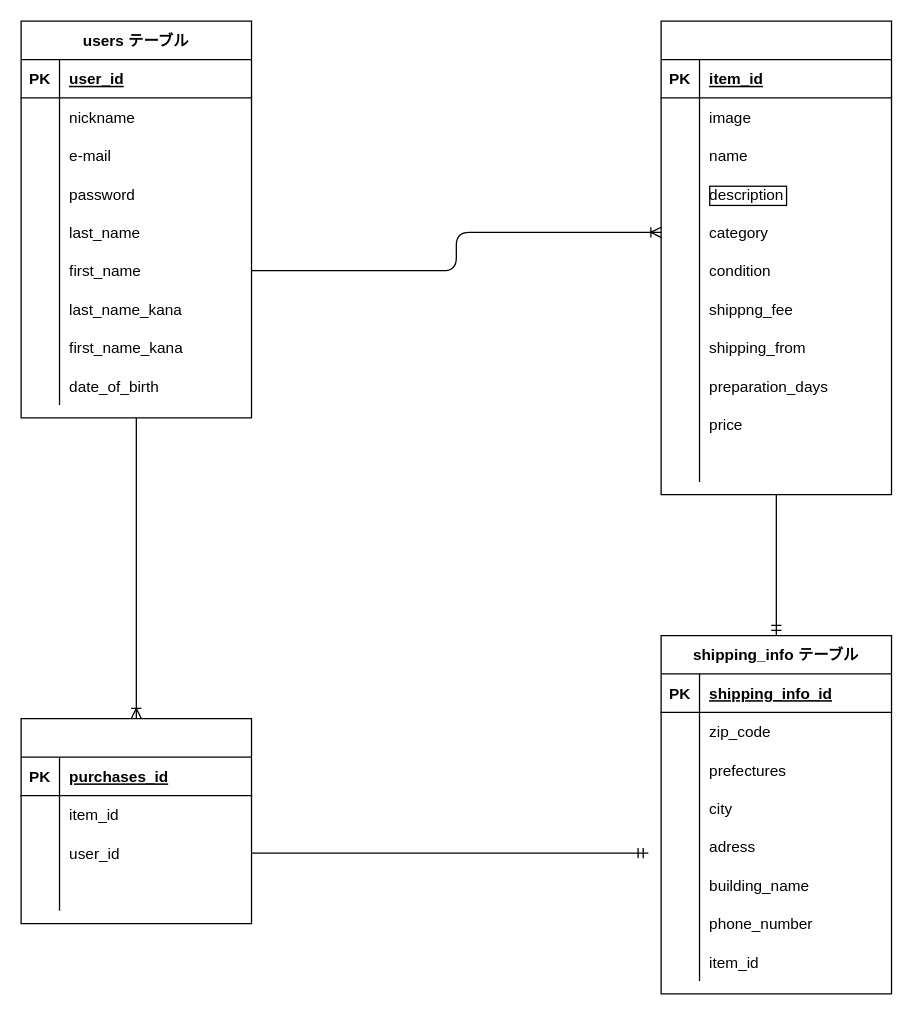
Some shapes in this 913 by 1015 pixel diagram are drawn without their labels. Here are the shapes that lost their labels. From the top down, the box of each, then its label:
(660, 20, 892, 495): items テーブル
(20, 717, 252, 924): purchases テーブル
